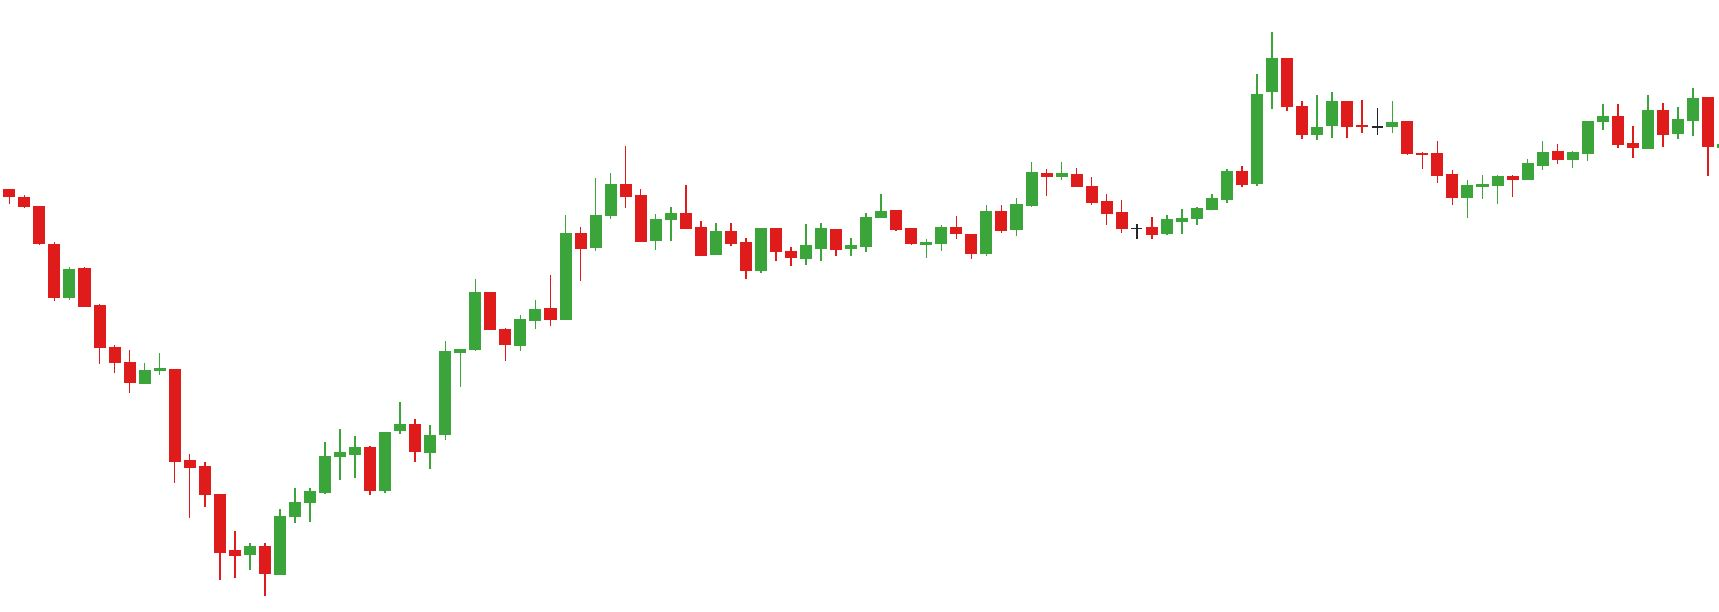buy: (847, 215, 947, 260)
